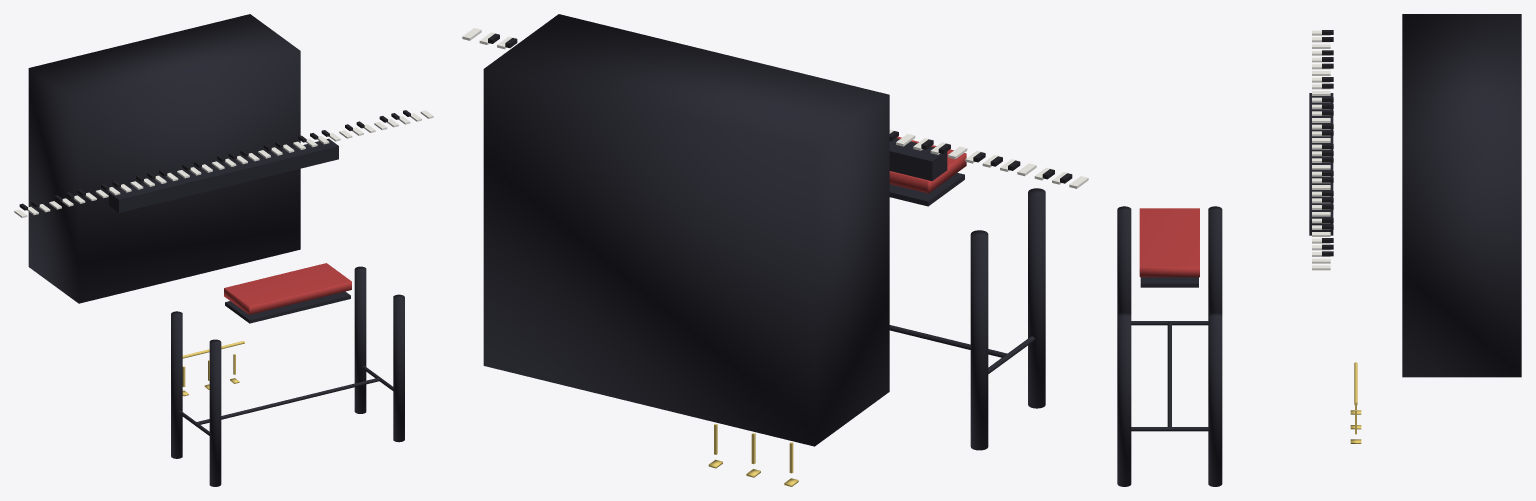
The model's file is piano.glb.
The picture shows the model from 3 angles, left to right: view 1: azimuth 30°, elevation 25°; view 2: azimuth 150°, elevation 25°; view 3: azimuth 270°, elevation 25°; orthographic projection. The views are drawn at different scales.
Parts seen in each view (by area): view 1: PianoBody, PianoBench, PianoPedals; view 2: PianoBody, PianoBench, PianoPedals; view 3: PianoBody, PianoBench.
Part boxes in pixels (x1,y1,x2,y2): PianoBody: [28, 14, 338, 303]; PianoBench: [171, 263, 404, 486]; PianoPedals: [182, 341, 244, 396]; PianoBody: [483, 14, 947, 446]; PianoBench: [889, 136, 1045, 450]; PianoPedals: [708, 424, 798, 486]; PianoBody: [1309, 14, 1521, 377]; PianoBench: [1117, 206, 1222, 486].
Size of the model in its own units: 1.3 by 0.9 by 0.9335.
